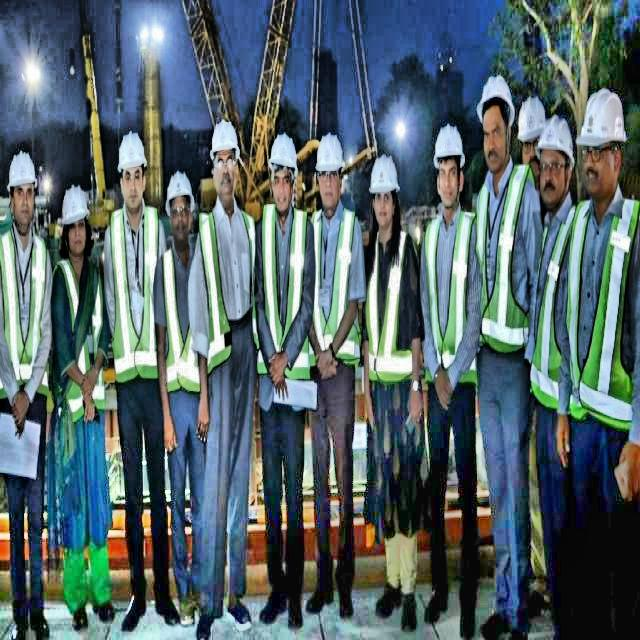person: (472, 66, 540, 640), (575, 82, 640, 640), (197, 116, 262, 634), (105, 130, 168, 640), (362, 147, 427, 640), (420, 128, 482, 640), (259, 126, 317, 639), (307, 134, 363, 640), (0, 146, 52, 640), (53, 177, 106, 640), (156, 165, 202, 640)
